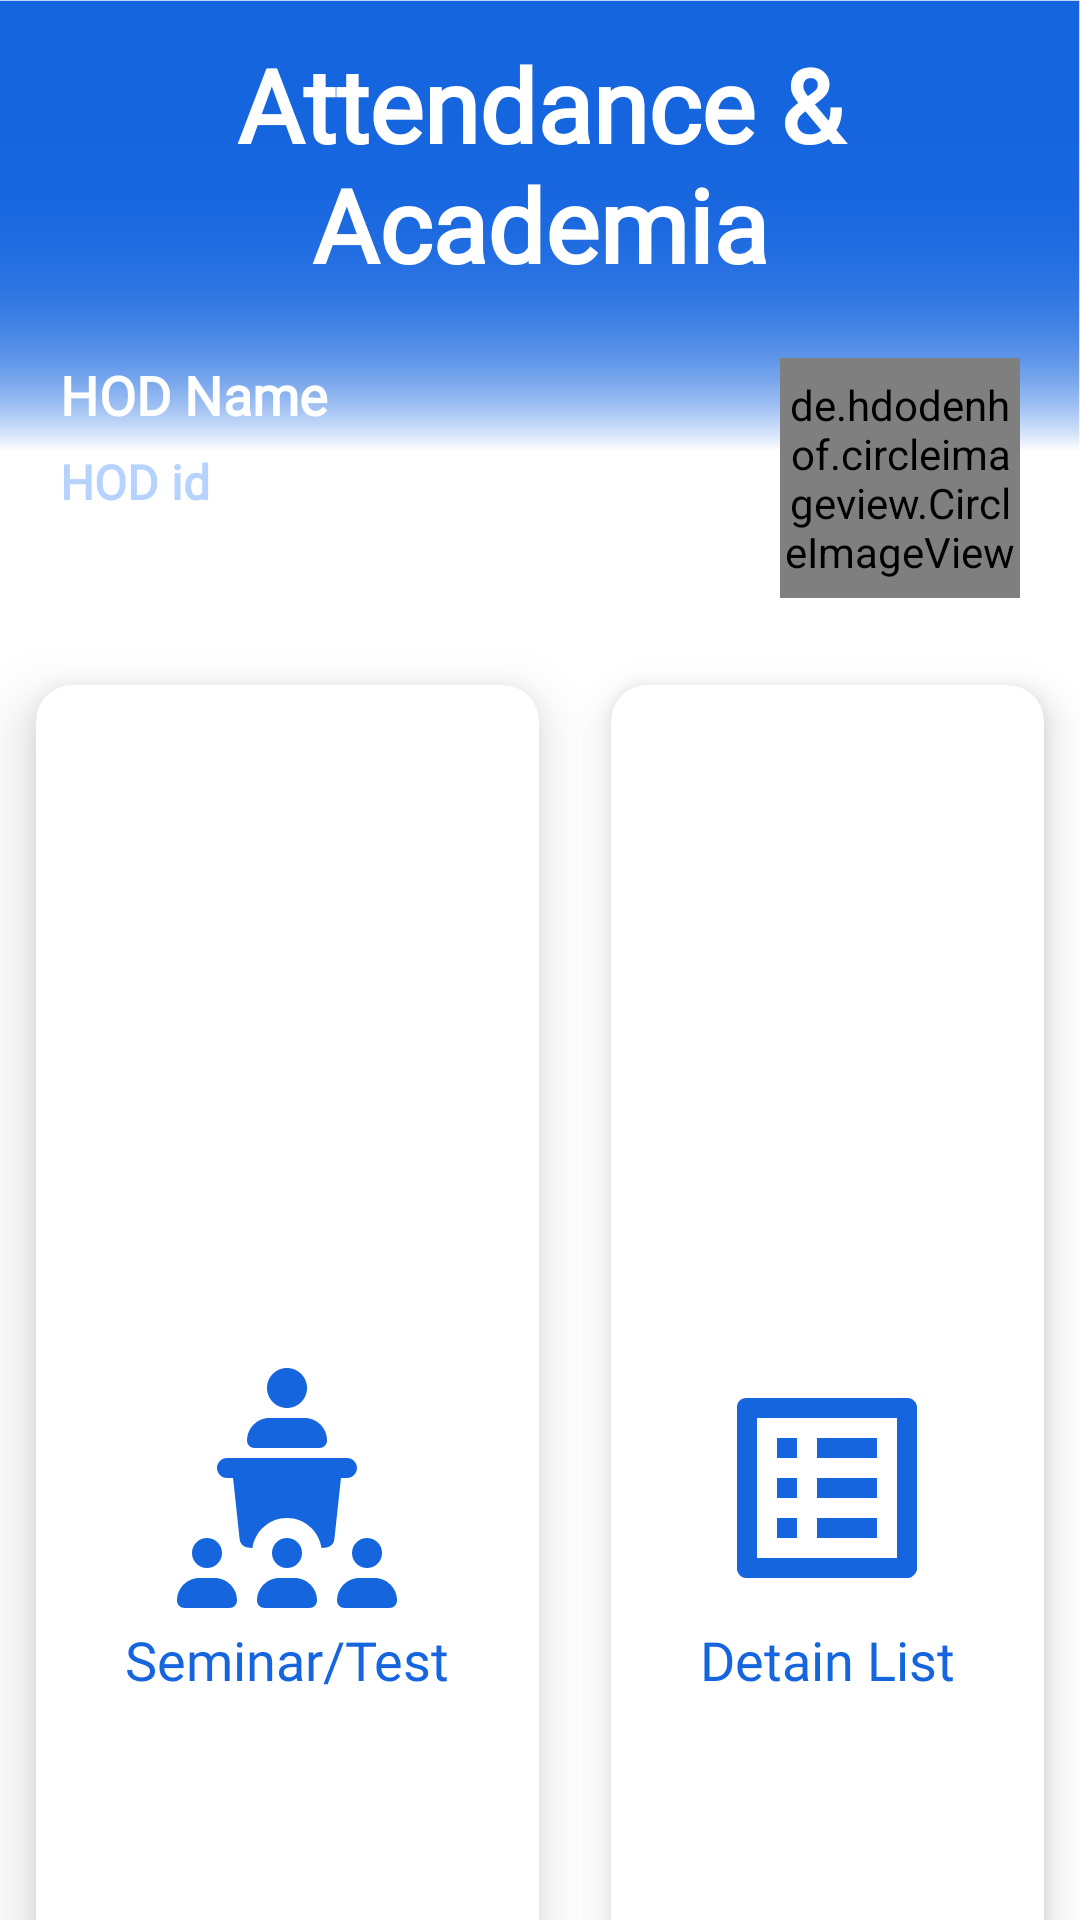

Named icons in this screenshot (1080*1920) and their bounding boxes, (x1, y1, x2, y2):
lecture: (177, 1368, 397, 1608)
